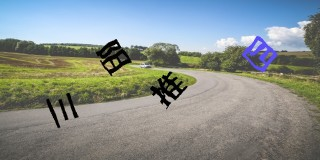三: (44, 92, 80, 128)
四: (242, 35, 277, 72)
推: (150, 71, 187, 109)
阻: (95, 38, 131, 76)
